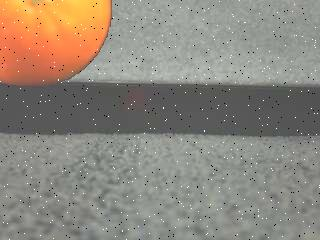Orange: (0, 0, 113, 85)
